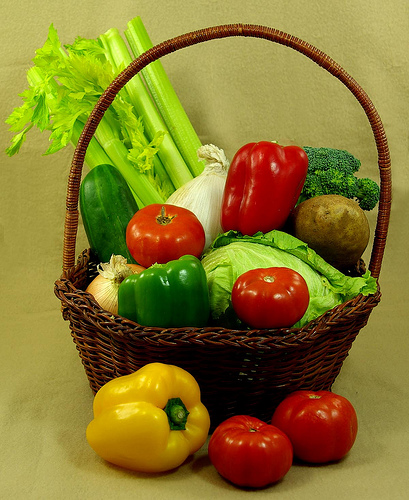cucumber: (77, 162, 151, 267)
